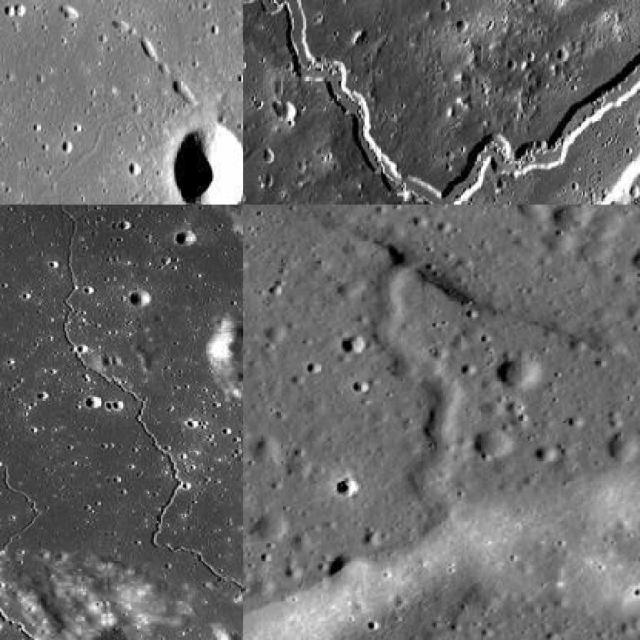rille: (243, 0, 639, 203), (58, 206, 242, 639), (0, 354, 100, 638), (369, 252, 462, 526)
